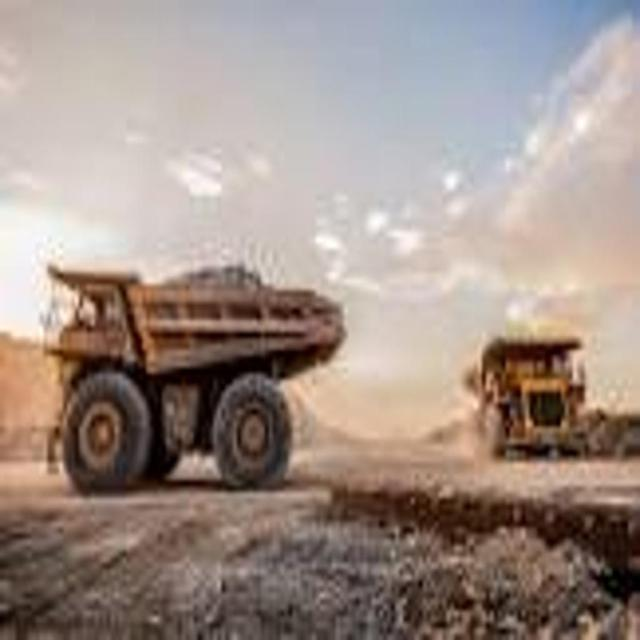dump_truck: (31, 230, 350, 492), (464, 320, 599, 470)
